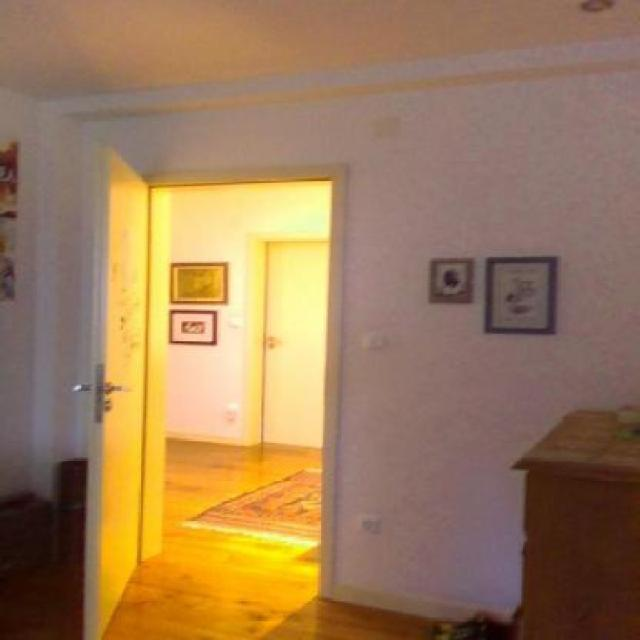door_handle: (101, 378, 134, 397)
